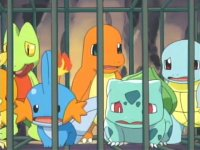mudkip: (17, 52, 96, 146)
